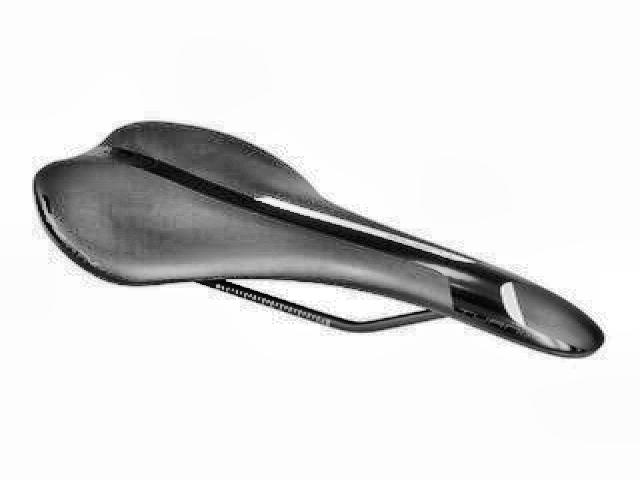saddle: (31, 114, 607, 360)
